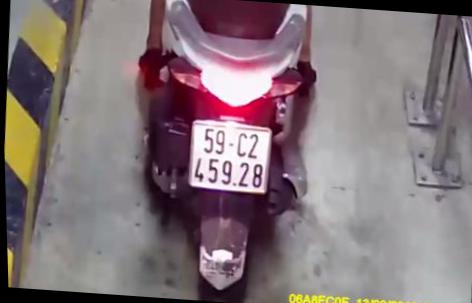LP: (185, 117, 274, 196)
